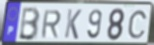8: (107, 7, 126, 41)
9: (86, 9, 103, 41)
B: (17, 6, 41, 42)
C: (127, 9, 148, 40)
K: (63, 8, 83, 41)
R: (40, 9, 63, 39)
